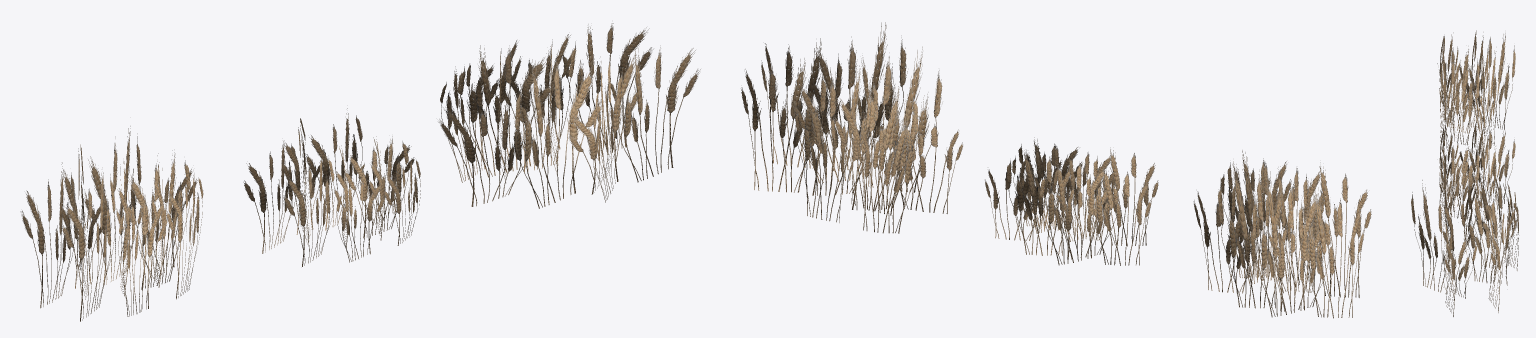
Rendered from Wheat_A1.fbx.
3 renders of one model, left to right at view 1: azimuth 30°, elevation 25°; view 2: azimuth 150°, elevation 25°; view 3: azimuth 270°, elevation 25°, orthographic. The views are drawn at different scales.
Parts seen in each view (by area): view 1: Wheat_A1, Wheat_A3, Wheat_A2; view 2: Wheat_A1, Wheat_A3, Wheat_A2; view 3: Wheat_A1, Wheat_A3, Wheat_A2.
Boxes of the visible parts, left/top/right/bottom form: Wheat_A1: left=438, top=23, right=700, bottom=208; Wheat_A3: left=20, top=126, right=203, bottom=321; Wheat_A2: left=243, top=108, right=420, bottom=266; Wheat_A1: left=741, top=22, right=962, bottom=233; Wheat_A3: left=1193, top=150, right=1371, bottom=318; Wheat_A2: left=985, top=137, right=1158, bottom=265; Wheat_A1: left=1411, top=170, right=1518, bottom=316; Wheat_A3: left=1437, top=30, right=1515, bottom=157; Wheat_A2: left=1439, top=122, right=1515, bottom=231.
Size of the model in its own units: 1249 by 295 by 282.
